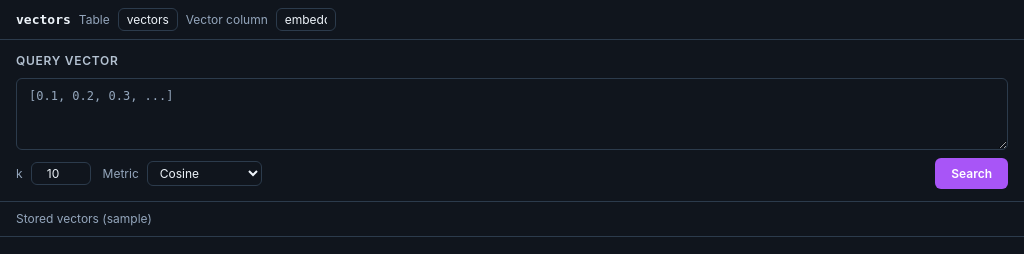
Test: vector actual search handler › binds canonical data, clamps k, and shows resolved query errors instead of samples
In the text box with placeholder "[0.1, 0.2, 0.3, ...]": (512, 114) x1=16 y1=78 x2=1008 y2=150, type "[1.0, 2e0]"
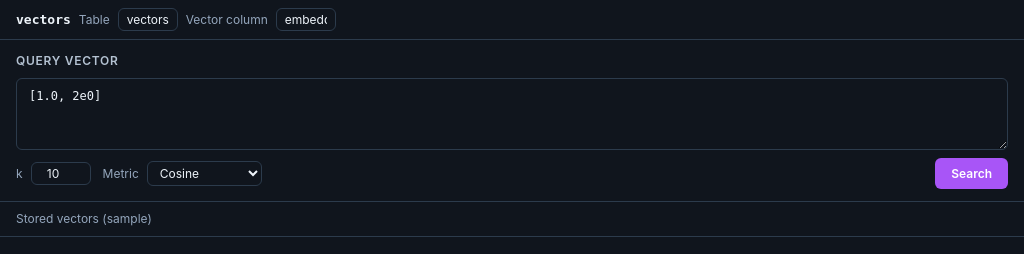
Replace the text in the number field with "999999": (61, 174) x1=31 y1=162 x2=91 y2=185
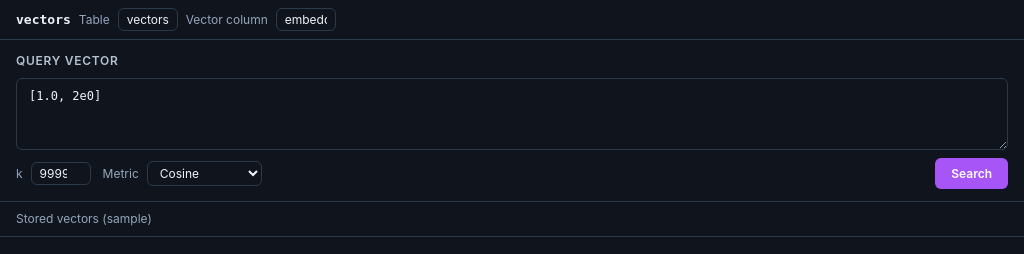
Click the button "Search": click(972, 174) x1=935 y1=158 x2=1008 y2=189
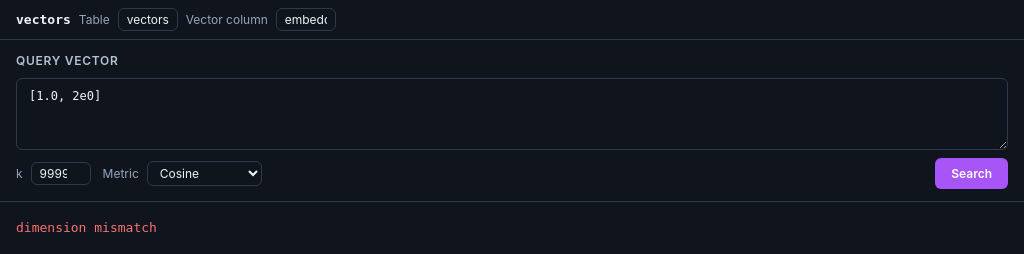
expect the text "dimension mismatch" is shown: met, box x1=16 y1=220 x2=157 y2=235
expect the text "Stored vectors (sample)" is gone: met
